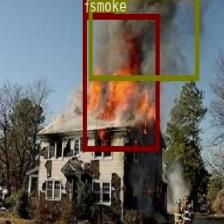fire: (82, 13, 159, 150)
smoke: (88, 0, 198, 79)
